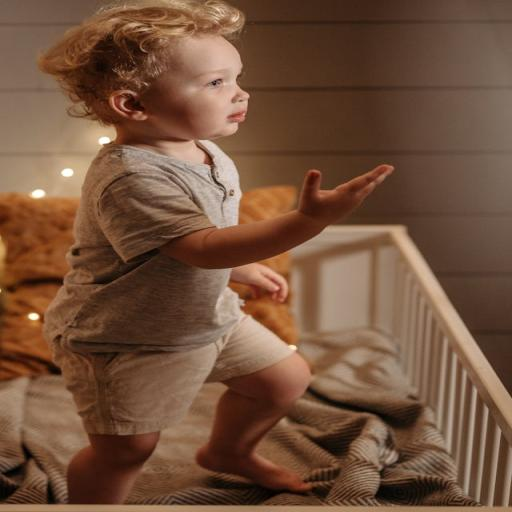baby: (40, 0, 392, 503)
crib: (292, 226, 511, 507)
